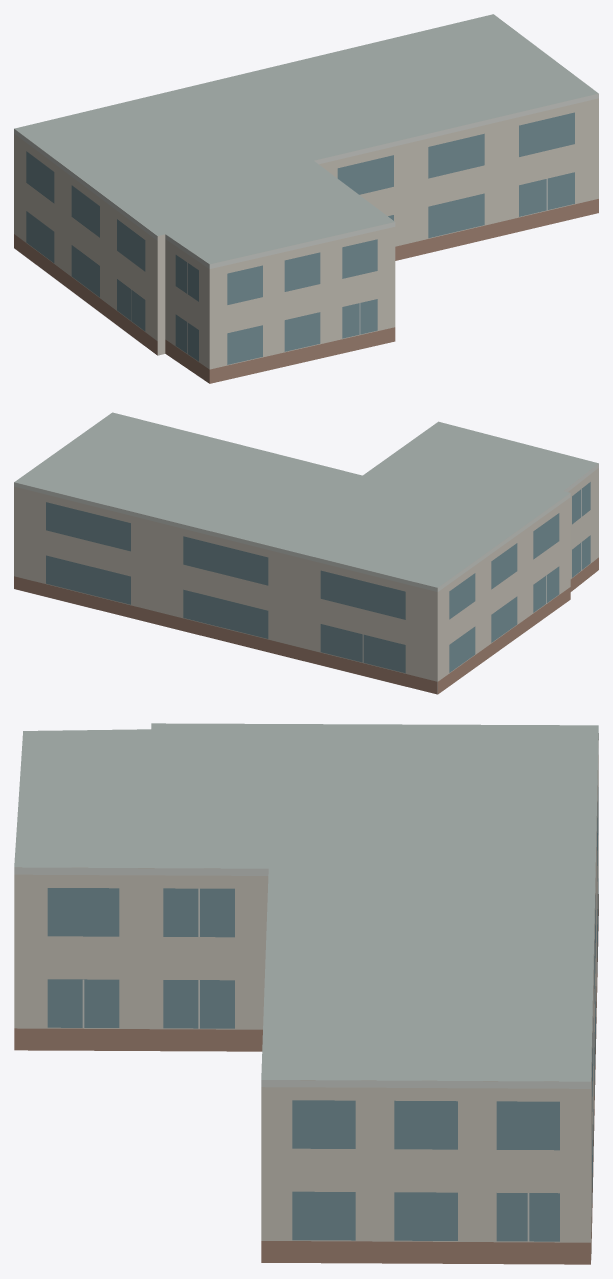
Rendered from survey-upis-32761046.glb.
The picture shows the model from 3 angles, top to bottom: view 1: azimuth 30°, elevation 25°; view 2: azimuth 150°, elevation 25°; view 3: azimuth 270°, elevation 25°; orthographic projection. The views are drawn at different scales.
Visible parts, largest first — view 1: survey-upis-32761046.tmp; view 2: survey-upis-32761046.tmp; view 3: survey-upis-32761046.tmp.
Part boxes in pixels (x1,y1,x2,y2): survey-upis-32761046.tmp: [14, 14, 598, 383]; survey-upis-32761046.tmp: [14, 412, 598, 694]; survey-upis-32761046.tmp: [14, 723, 598, 1264].
Bounding box in the file's own units: 25.64 × 6.1 × 17.68.
